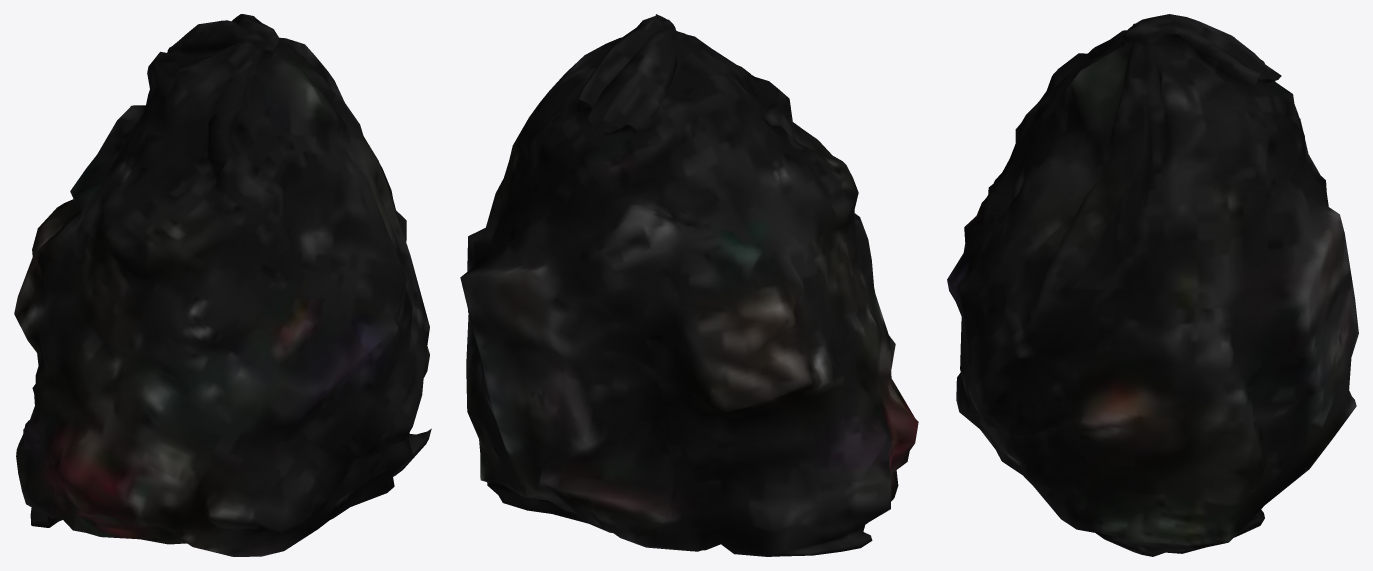
Rendered from trashbag.glb.
3 renders of one model, left to right at view 1: azimuth 30°, elevation 25°; view 2: azimuth 150°, elevation 25°; view 3: azimuth 270°, elevation 25°, orthographic. The views are drawn at different scales.
Visible parts, largest first — view 1: trashbag; view 2: trashbag; view 3: trashbag.
Boxes of the visible parts, x1=… form: trashbag: x1=14, y1=14, x2=431, y2=556; trashbag: x1=460, y1=14, x2=918, y2=556; trashbag: x1=947, y1=14, x2=1358, y2=556.
Size of the model in its own units: 0.5281 by 0.5747 by 0.4634.
Materials: 1 (1 with a texture image).
